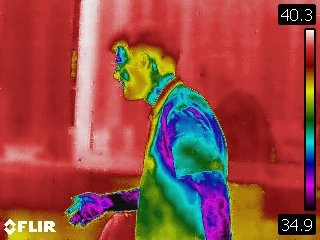human: (63, 20, 235, 240)
